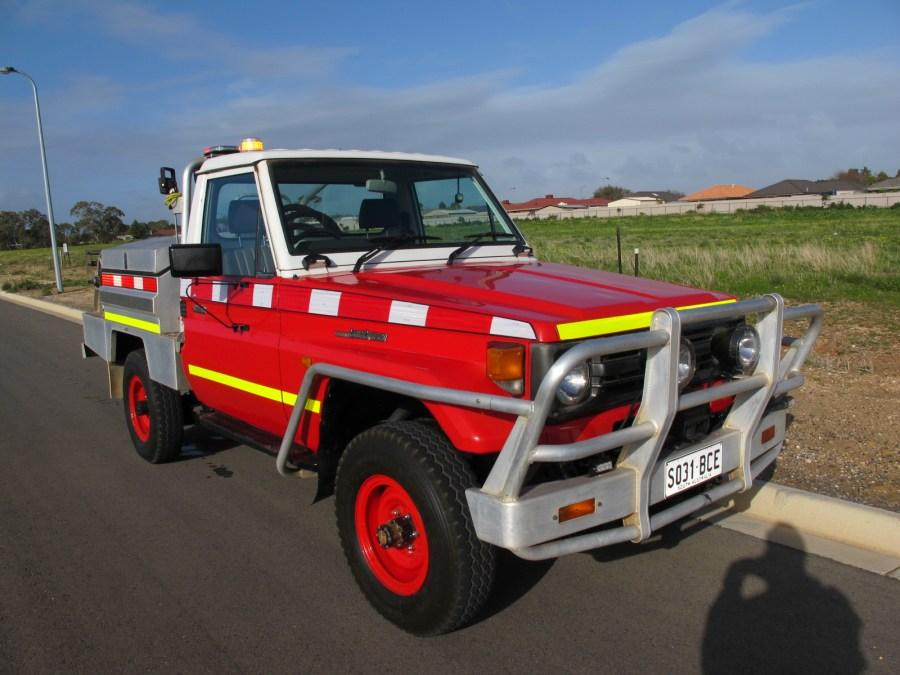Fire-engine: (80, 136, 823, 638)
